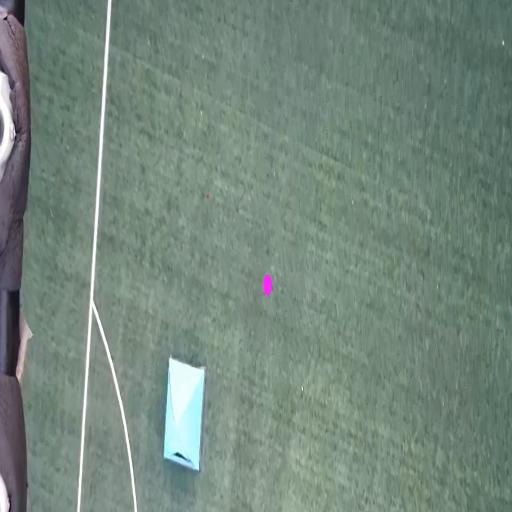tent: (162, 354, 208, 476)
